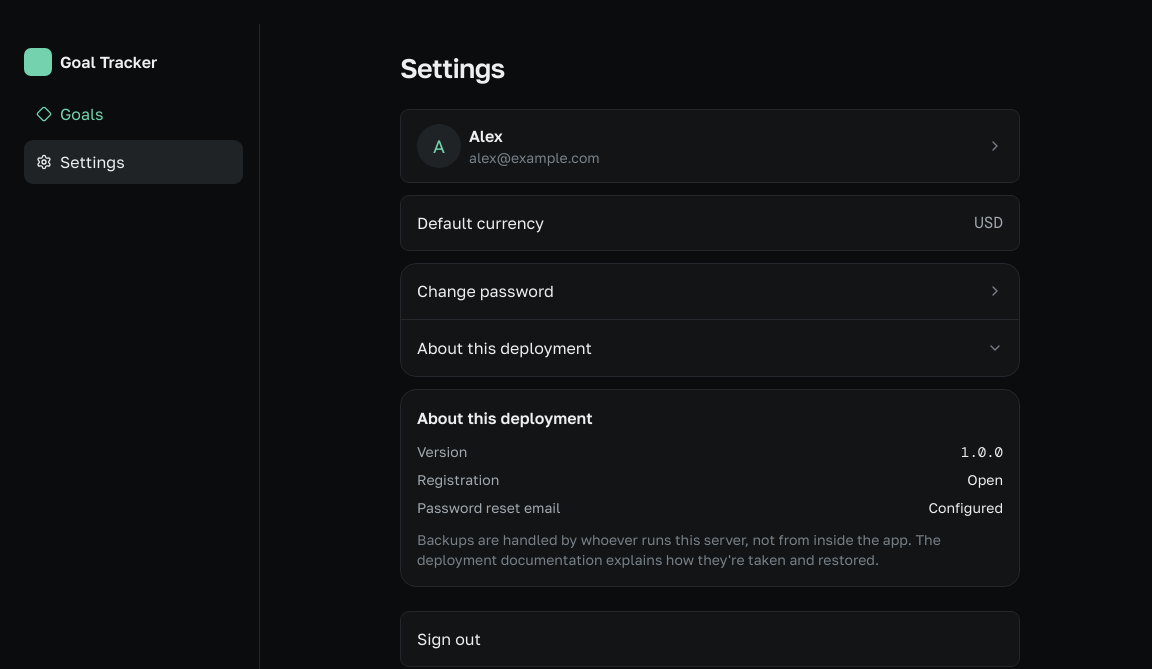
Test case: M1 web identity flows › loads and updates the authenticated user profile
expect the heading "Settings" is shown: met, box [400,52,505,84]
Step 1. Click the button "A Alex alex@example.com" → (439, 146), box [400,108,1020,182]
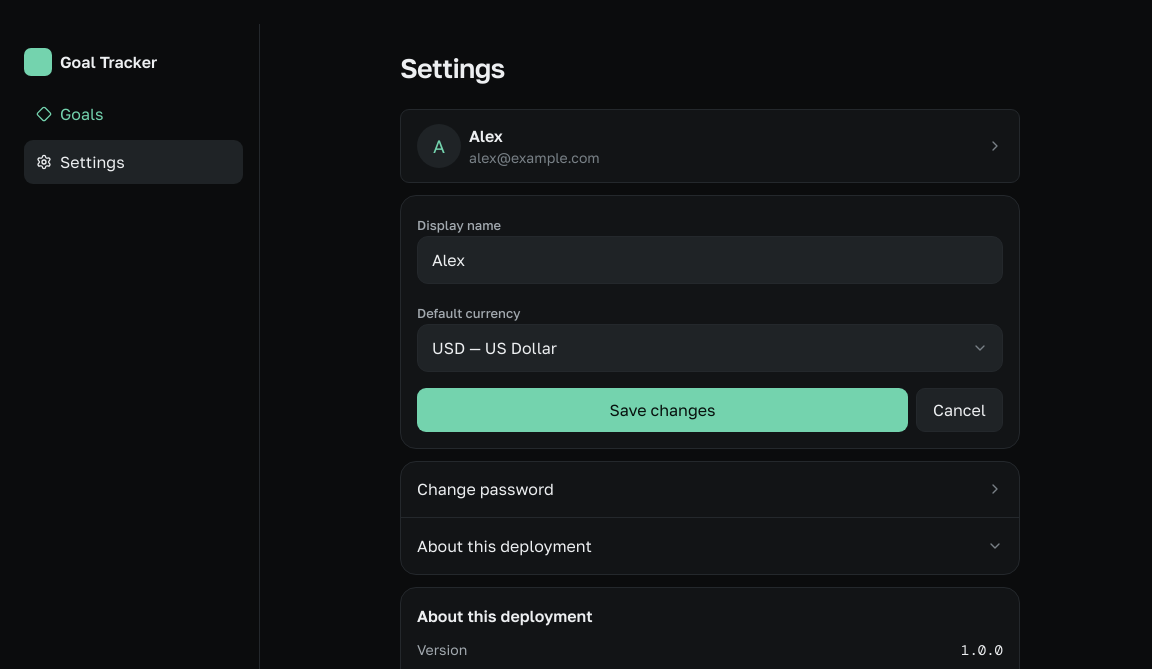
Step 2. Replace the text in the field labelled "Display name" with "Alex Rivera" → (710, 260), box [417,236,1003,284]
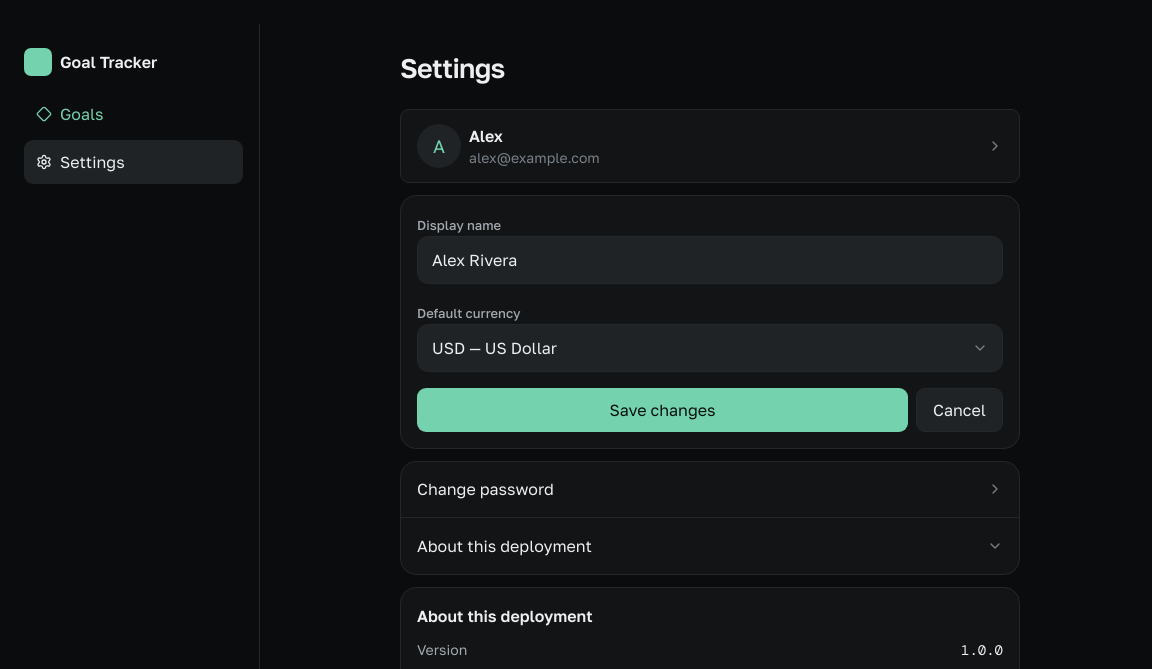
Step 3. Click the button "Save changes" → (663, 410), box [417,388,908,432]
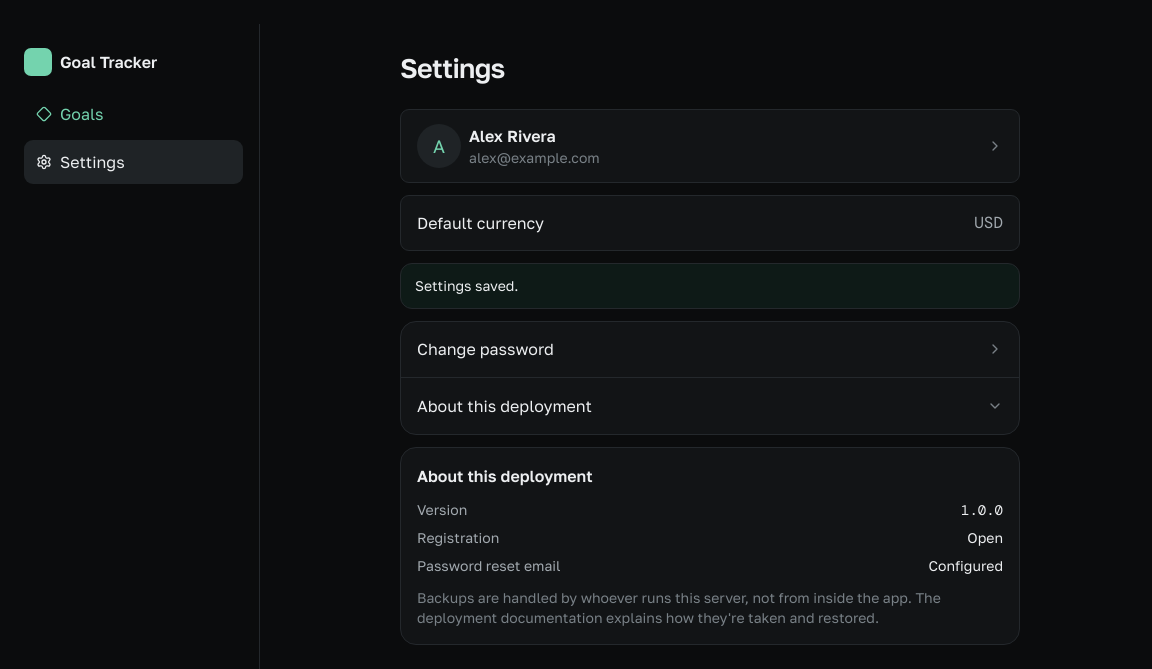
expect the text "Settings saved." is shown: met, box [400,262,1020,308]
